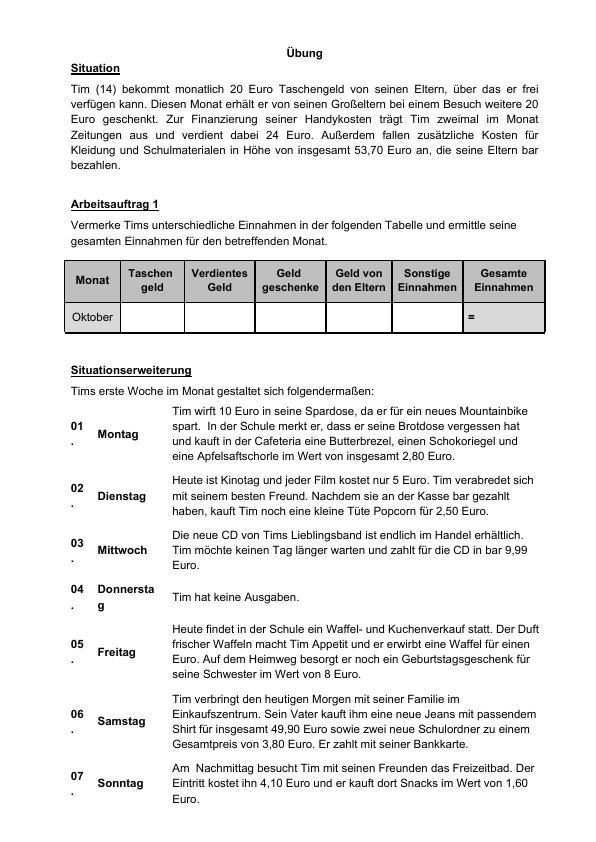table: (60, 257, 551, 340)
text: (67, 60, 546, 176), (68, 690, 545, 753), (68, 403, 531, 466), (67, 622, 543, 682), (64, 195, 520, 251), (64, 757, 551, 809), (69, 473, 539, 524), (62, 528, 540, 577), (66, 360, 375, 400), (64, 579, 304, 616), (283, 45, 331, 65)
